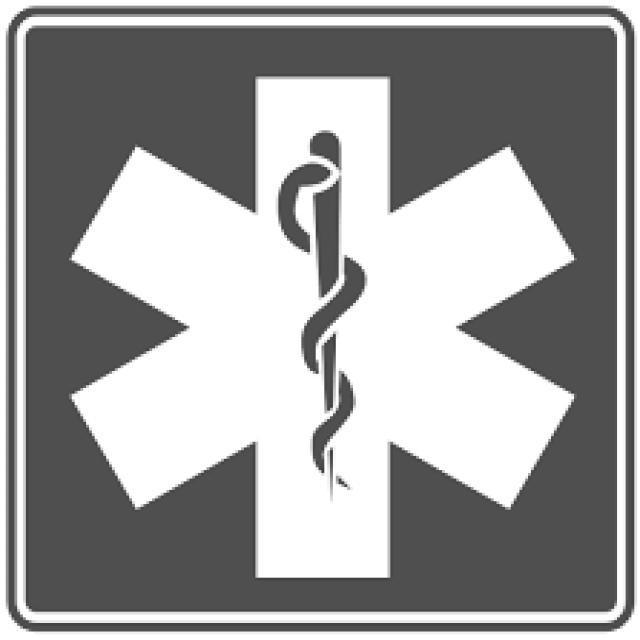hospital ahead: (44, 46, 619, 597)
